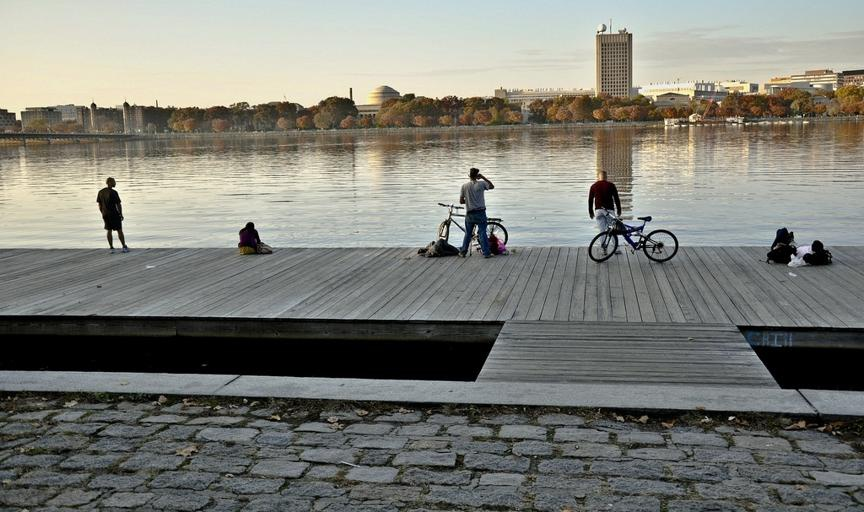non-vehicle: (587, 206, 678, 263), (435, 202, 507, 255)
